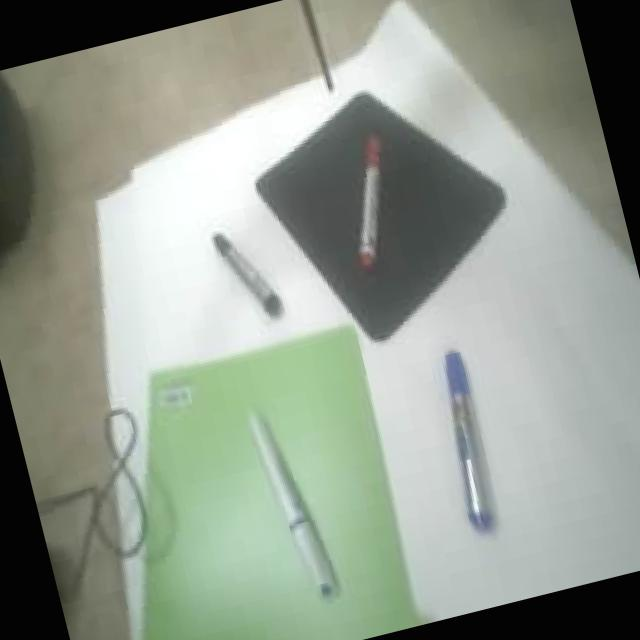board-marker: (247, 412, 337, 595), (444, 350, 492, 531), (212, 232, 281, 314), (358, 134, 380, 268)
